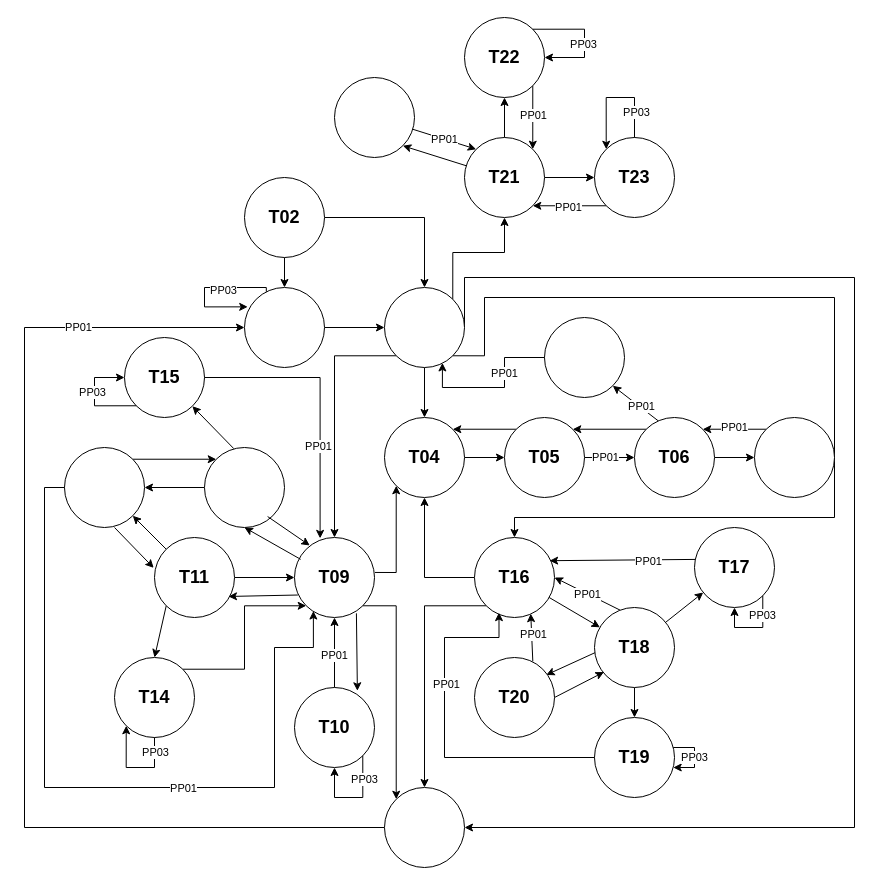
Some shapes in this 880 by 885 pixel diagram are drawn without their labels. The box of each missing label's shape, as (x1, y1, x2, y2) in pixels:
T01: (244, 286, 324, 368)
T03: (384, 286, 464, 368)
T07: (754, 416, 834, 498)
T08: (544, 316, 624, 398)
T12: (204, 446, 284, 528)
T13: (64, 446, 144, 528)
T24: (334, 76, 414, 158)
T25: (384, 786, 464, 868)
